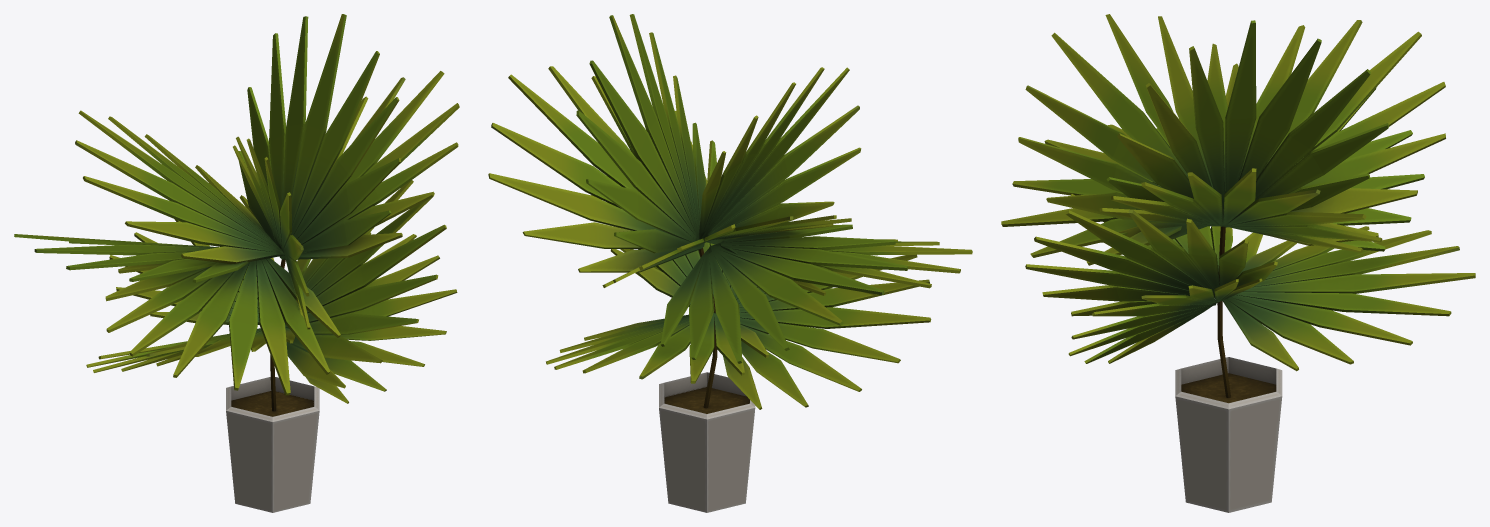
File: palmtree.glb
The picture shows the model from 3 angles, left to right: view 1: azimuth 30°, elevation 25°; view 2: azimuth 150°, elevation 25°; view 3: azimuth 270°, elevation 25°; orthographic projection. The views are drawn at different scales.
Visible parts, largest first — view 1: node-0; view 2: node-0; view 3: node-0.
Boxes of the visible parts, x1,y1,x2,y2 form: node-0: (14, 14, 459, 512); node-0: (488, 14, 972, 512); node-0: (1001, 14, 1475, 512).
Bounding box in the file's own units: 8.24 × 9.23 × 7.68.
Materials: 1 (1 with a texture image).
